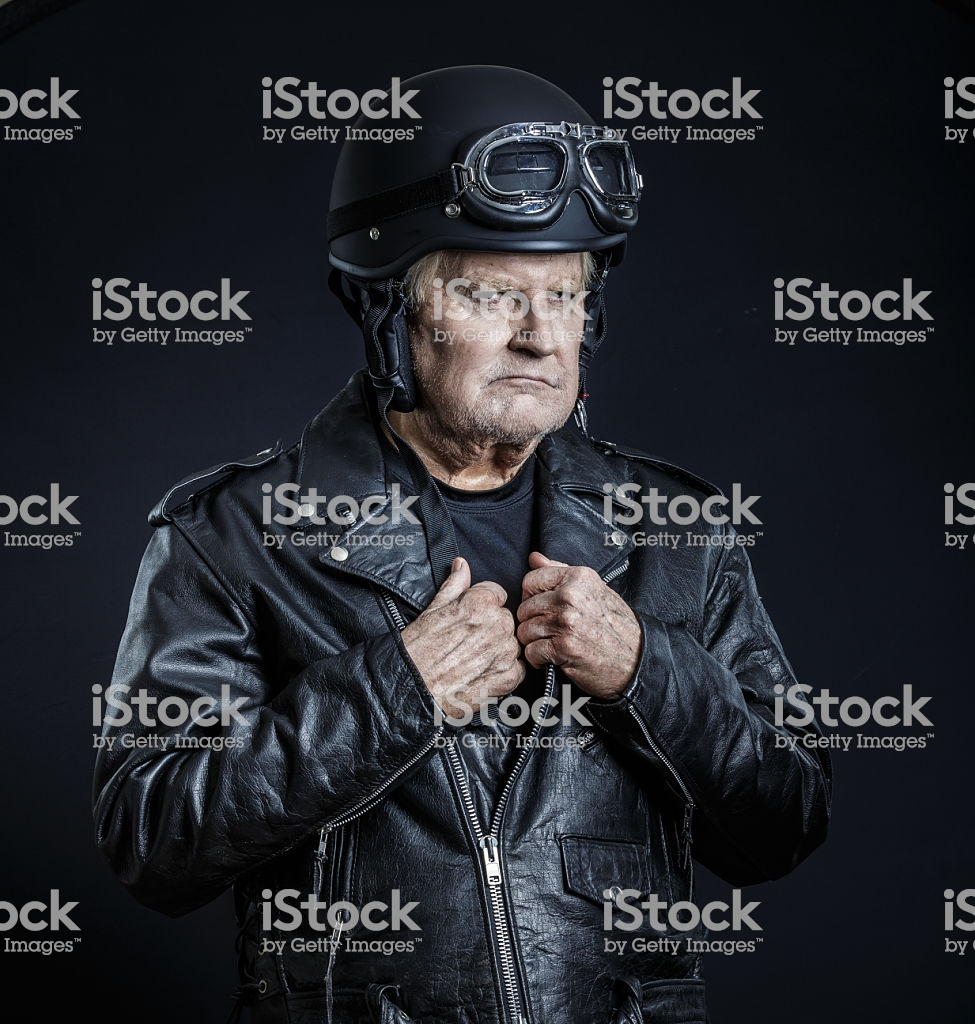helmet: (329, 51, 633, 250)
